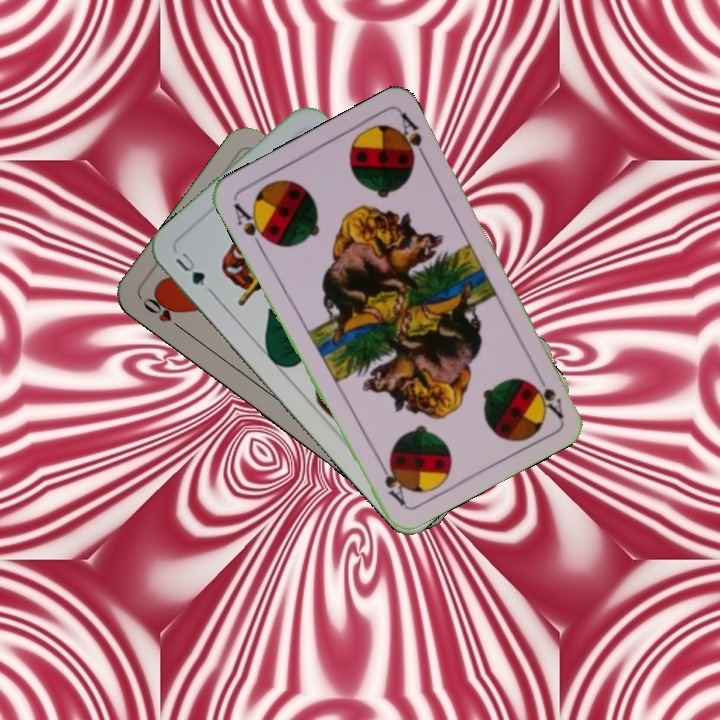GU: (171, 248, 208, 289)
HO: (138, 293, 189, 335)
SA: (229, 198, 273, 253), (530, 365, 566, 421)
